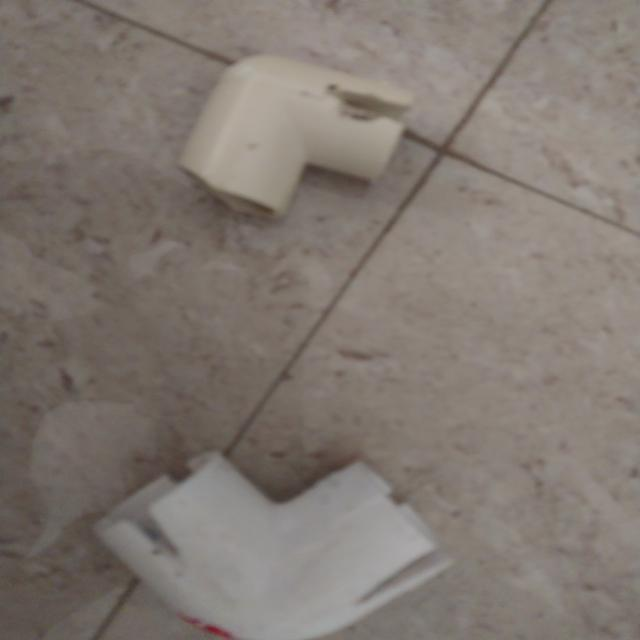Defective: (97, 497, 192, 574), (333, 560, 455, 604), (325, 74, 408, 129)
L Joint: (92, 454, 454, 640), (178, 55, 413, 221)
